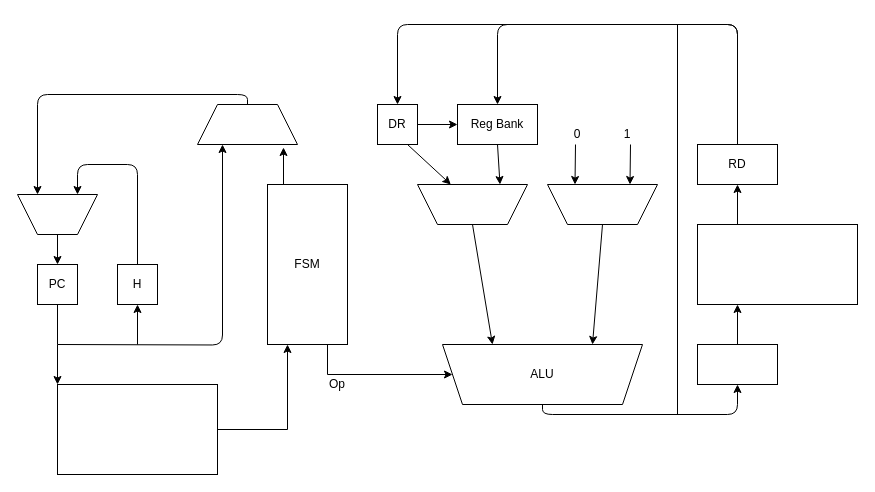
This 875x492 diagram has some shape labels left out. The shapes that lost their labels are listed below. From the top down, each one's box as (x1, y1, x2, y2) in pixels, then its label:
(696, 224, 858, 304): RAM
(696, 344, 778, 384): WR
(56, 384, 218, 474): ROM
